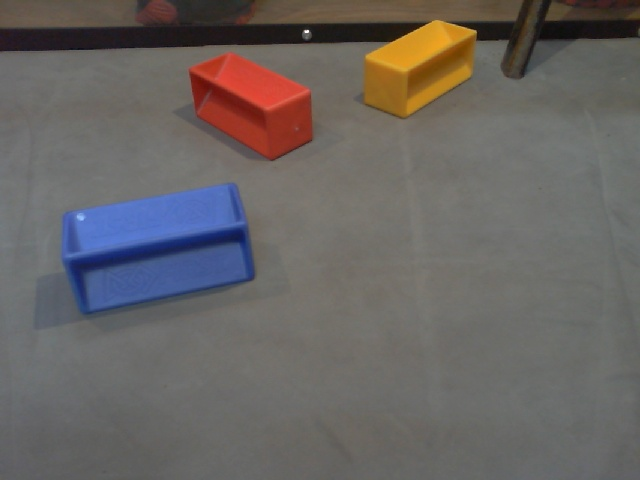BlueSample: (56, 179, 259, 318)
RedSample: (186, 51, 315, 163)
YellowSample: (360, 18, 479, 122)
